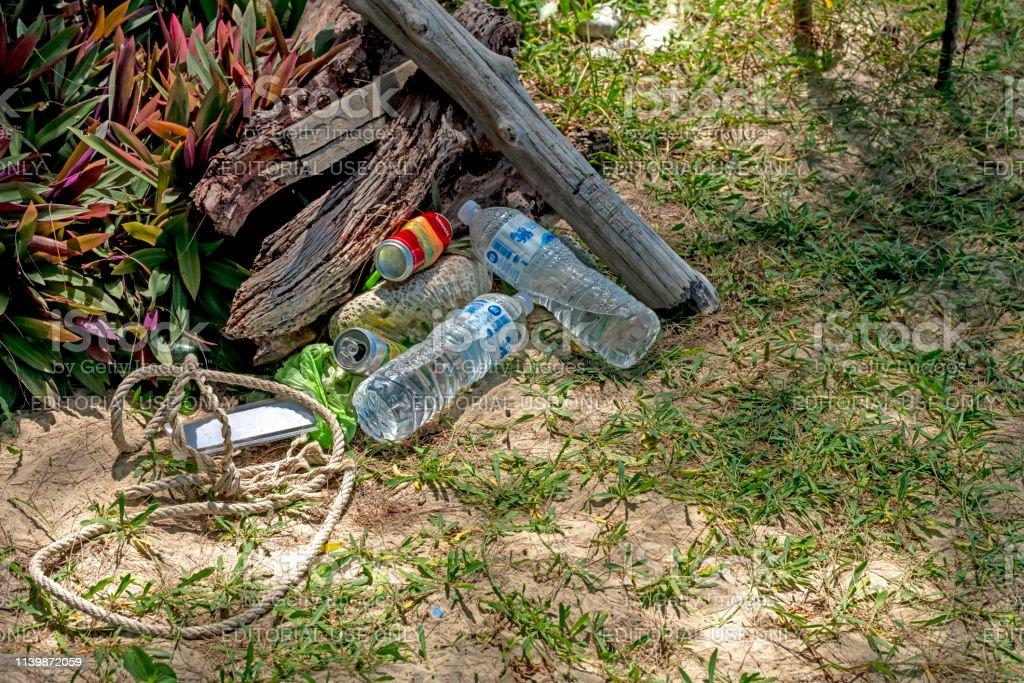bottle: (344, 345, 537, 385), (552, 249, 560, 310)
